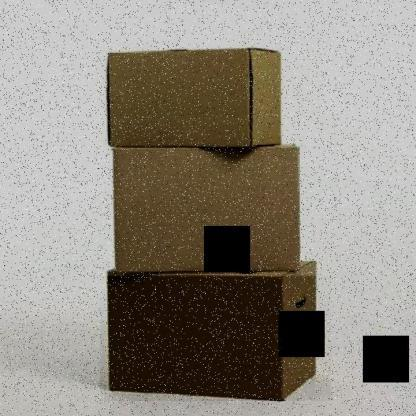-: (90, 151, 337, 275), (100, 276, 331, 401), (98, 39, 291, 150)
